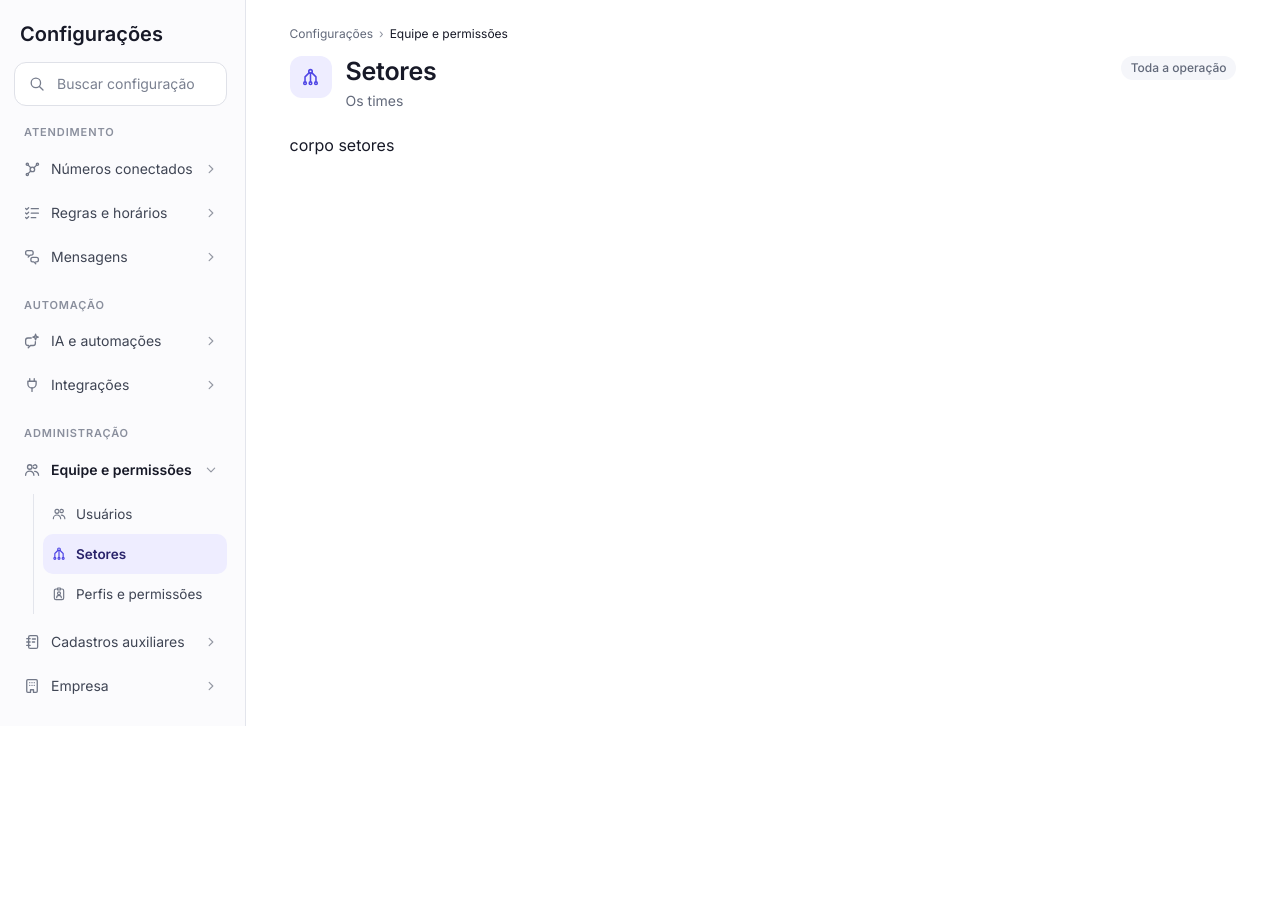
Test: SettingsLayout: busca › encontra Pix, diz quantos achou e some com a navegação até limpar
Type "pix" into the search field labelled "Buscar configuração". click: (120, 84)
box: [14,62,227,106]
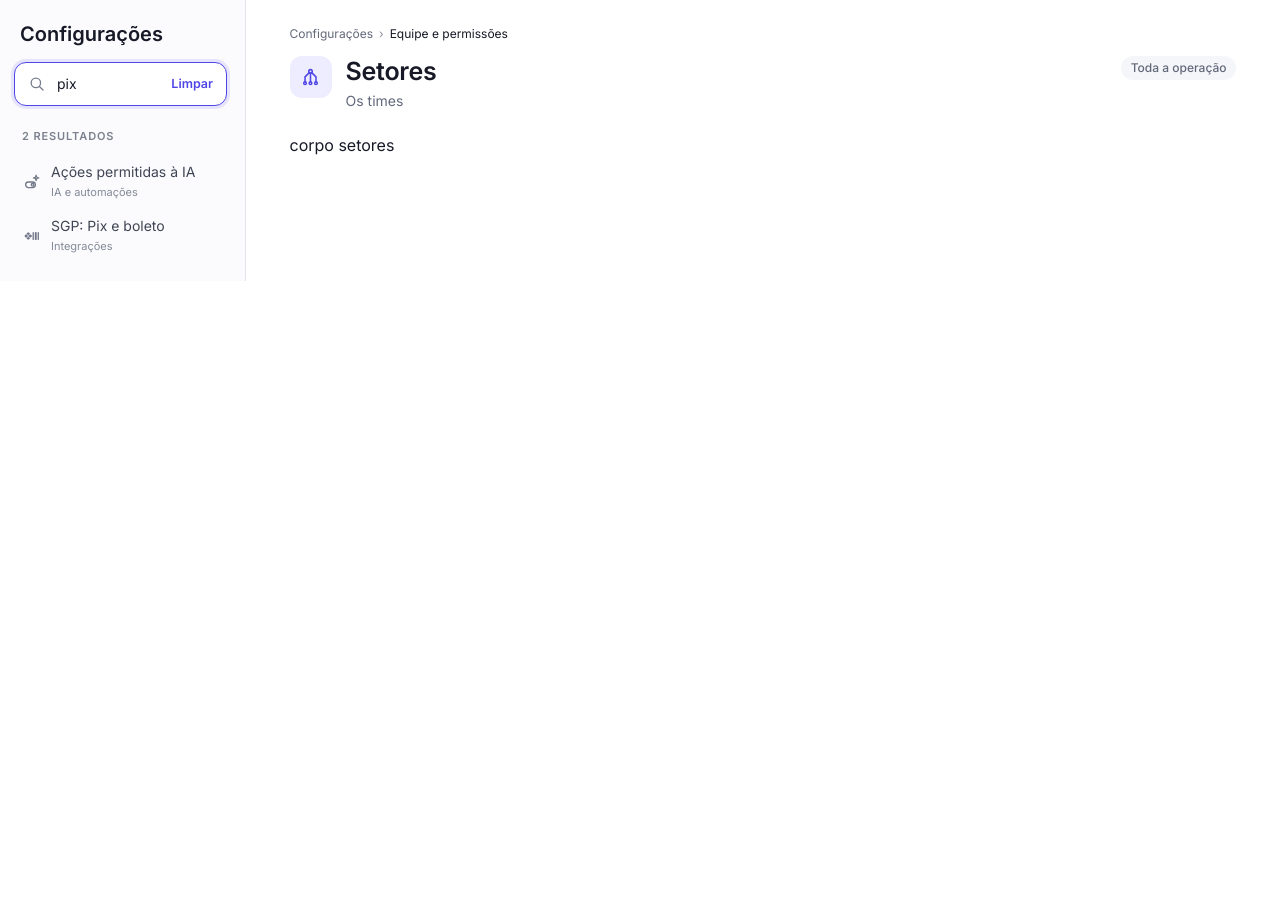
Expected: the text "Integrações" is shown, [51,238,112,252]
Now the message reads "2 resultados", box [22,129,114,143]
Now the link "Ações permitidas à IA IA e automações" is shown, box [23,162,195,198]
Click the button "Limpar". click: (192, 84)
box: [163,68,221,100]
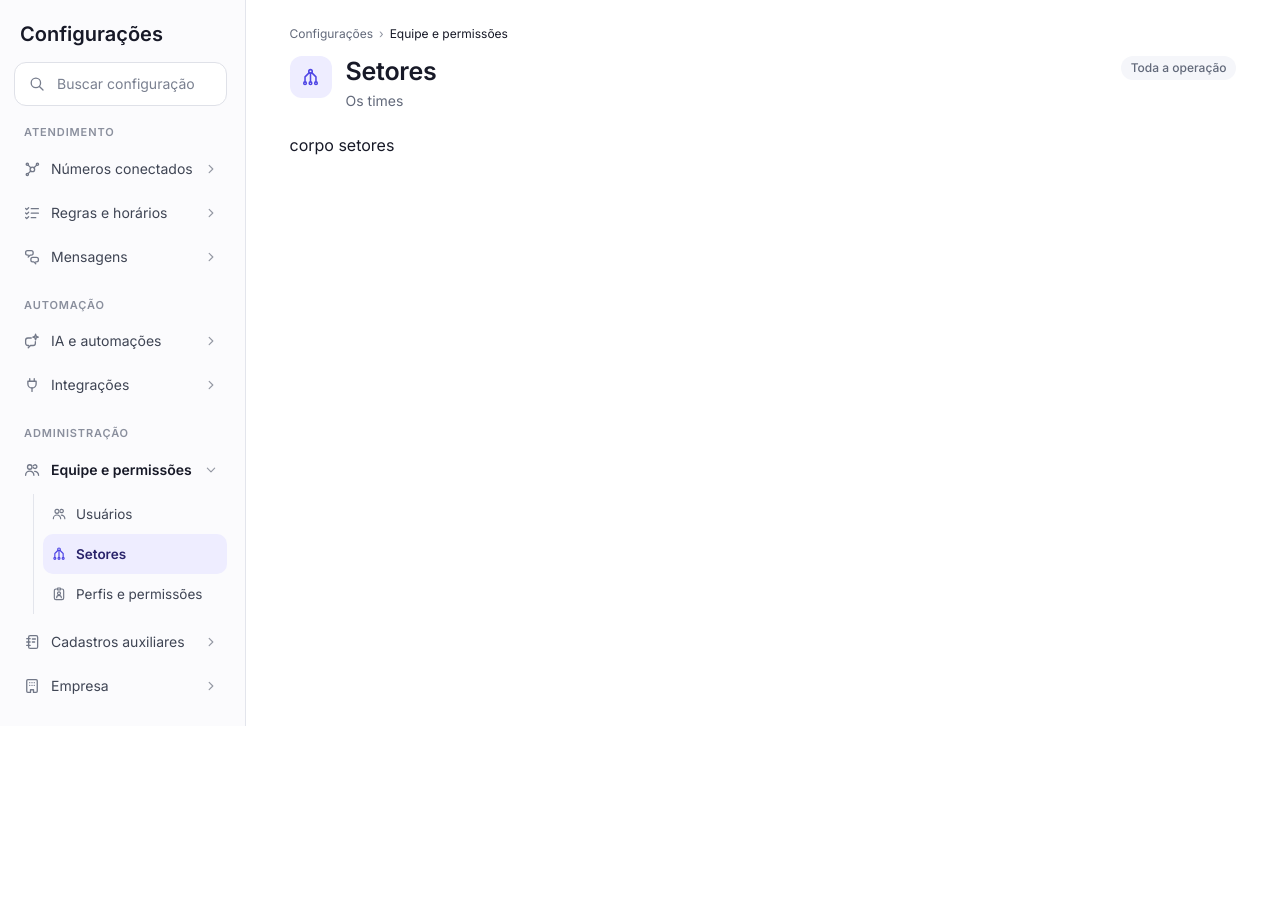
Now the search field labelled "Buscar configuração" is empty, box [14,62,227,106]
Now the navigation bar named "Seções de configurações" is shown, box [14,124,227,708]
